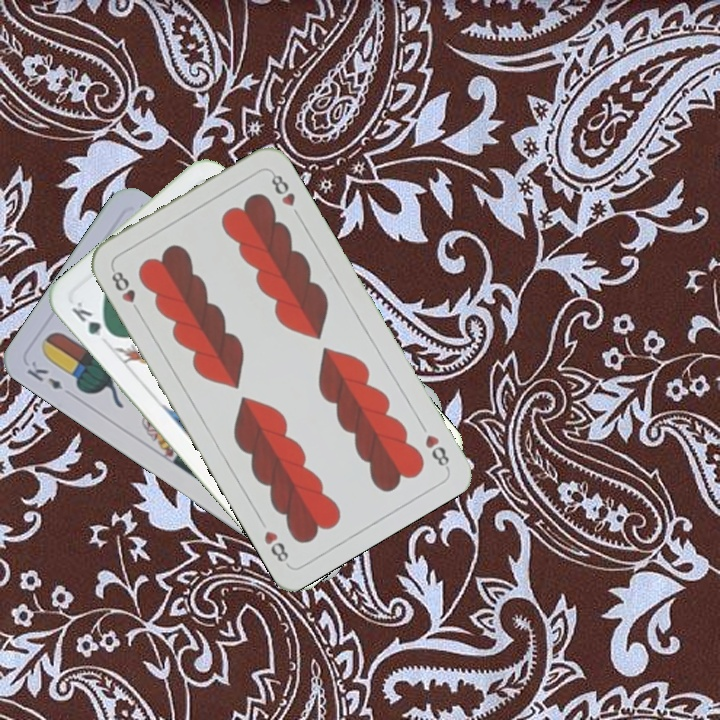EK: (23, 357, 65, 393)
GK: (68, 297, 117, 340)
H8: (107, 264, 144, 317), (421, 430, 452, 471)
